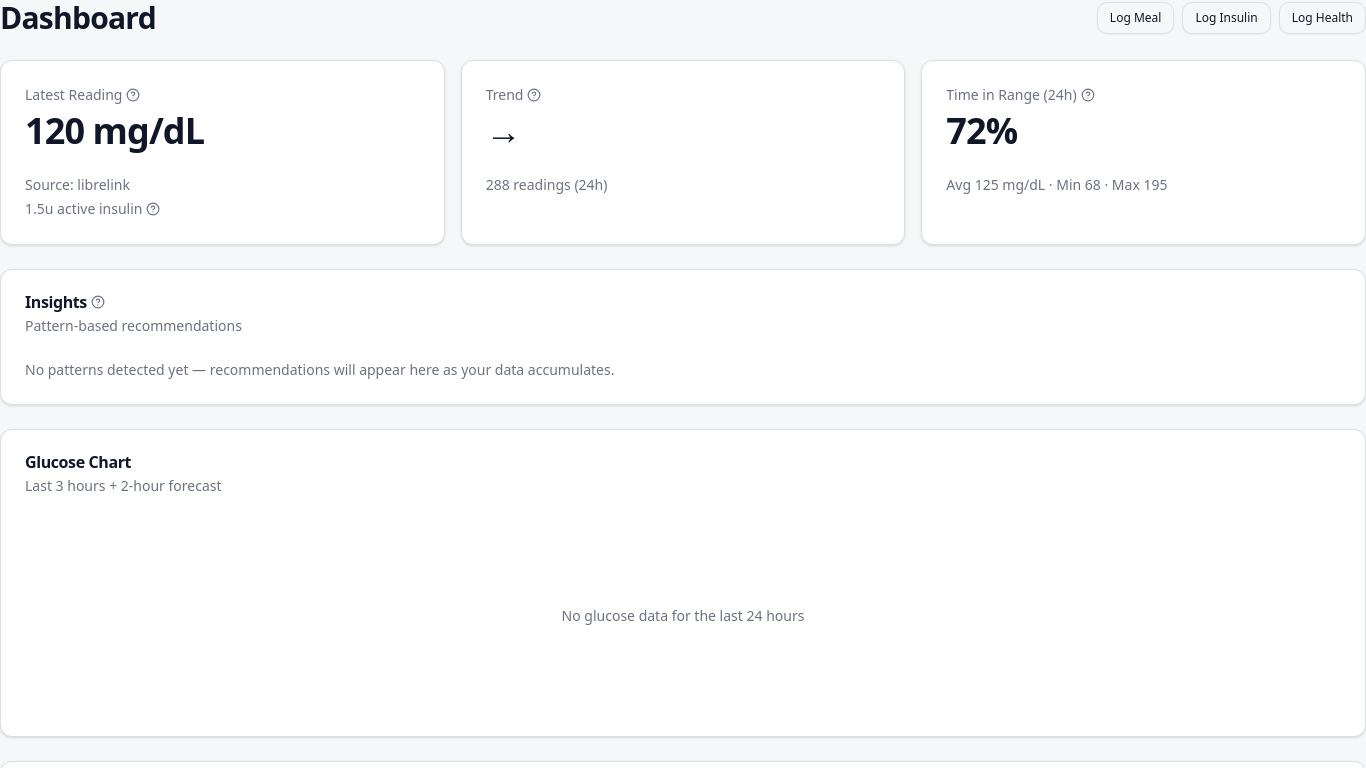
Scenario: Dashboard — help elements (#86) › opens trend popover on click
The width and height of the screenshot is (1366, 768).
Click the button named "help: trend arrow" at (534, 95), box 527,88 -> 541,102
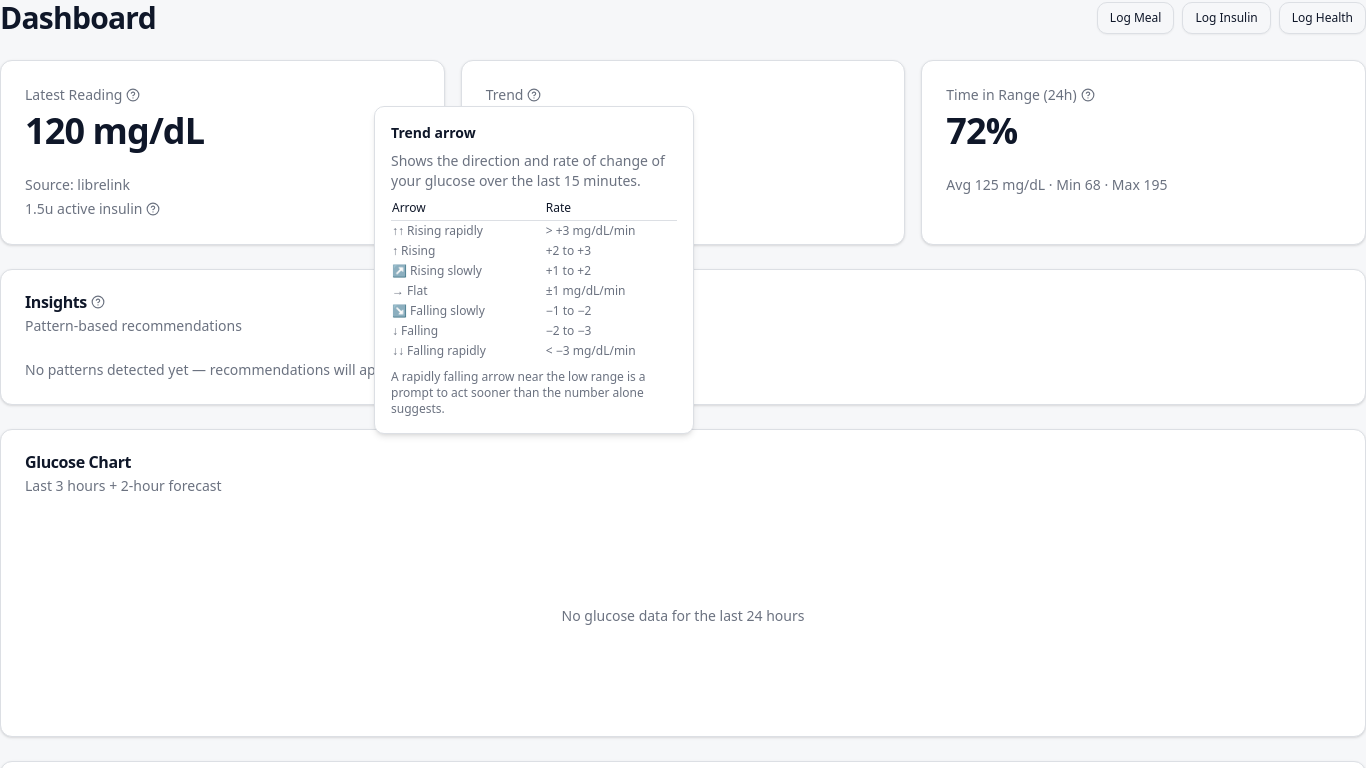
Result: the text "rate of change" is shown at 391,151 -> 665,190
